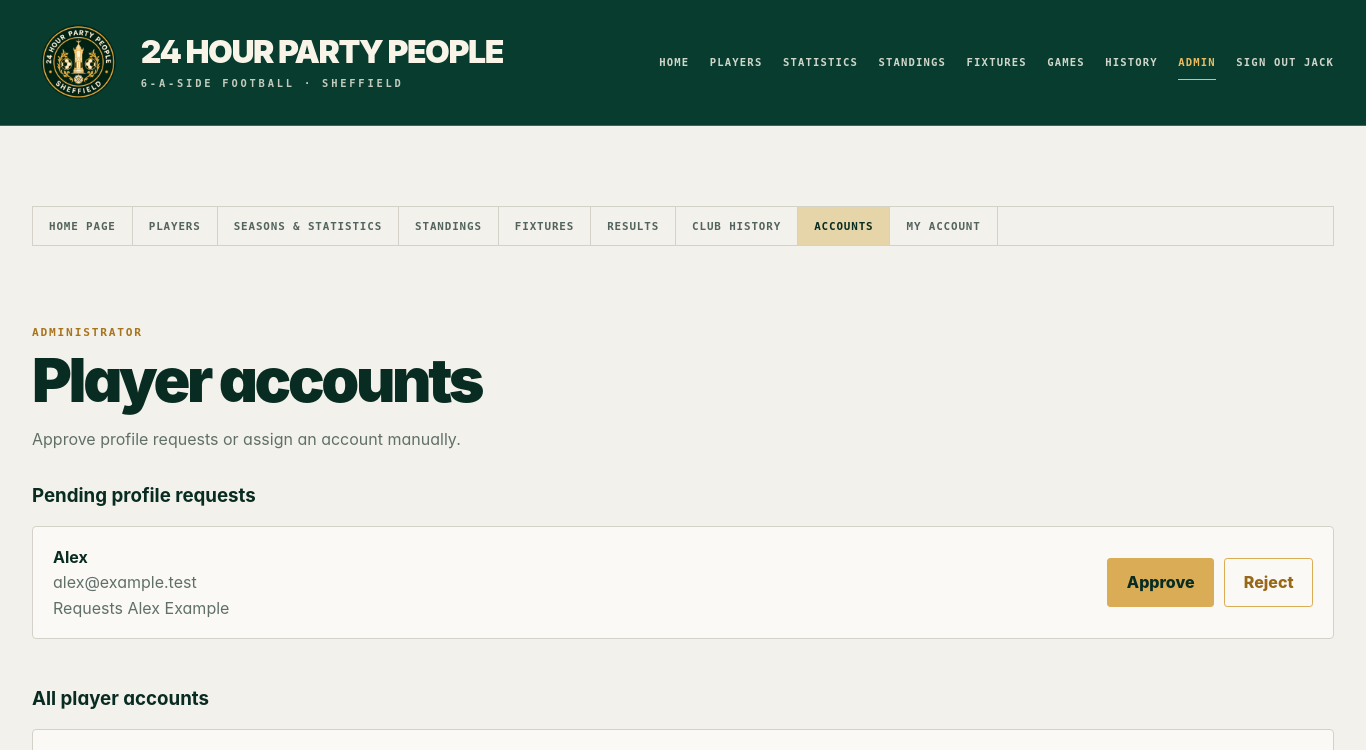
Test: App › lets an administrator approve a pending Player profile request
The image size is (1366, 750).
Click the button "Approve". click: point(1161, 582)
box: [1107, 558, 1214, 607]
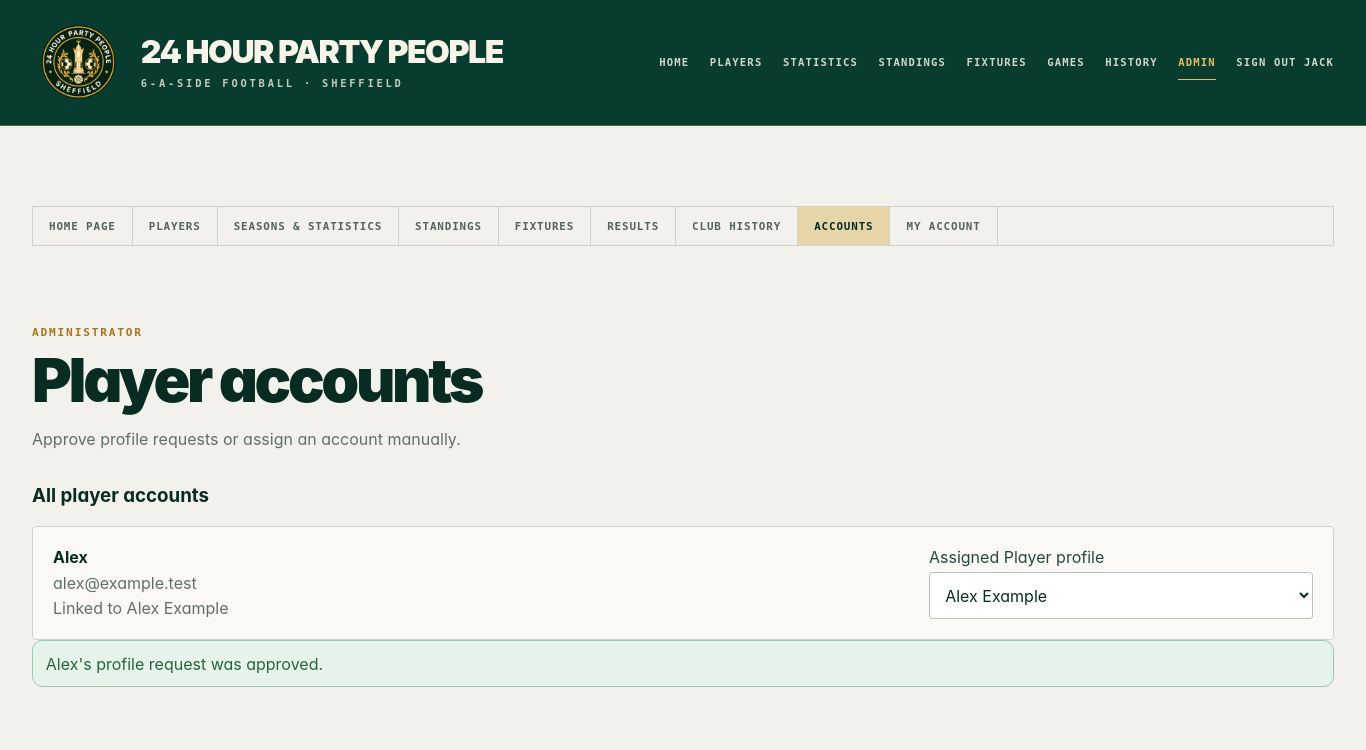
expect the text "Alex's profile request was approved." is shown: met, box [32, 640, 1334, 688]
expect the text "Linked to Alex Example" is shown: met, box [53, 598, 228, 618]
